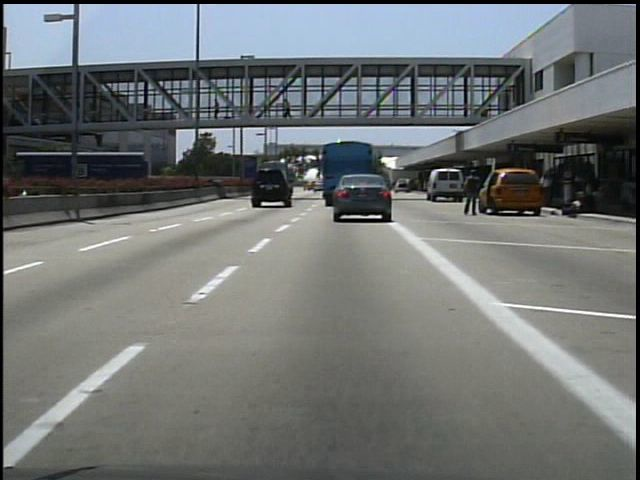person: (461, 165, 485, 220), (210, 93, 226, 121), (281, 96, 296, 122)
